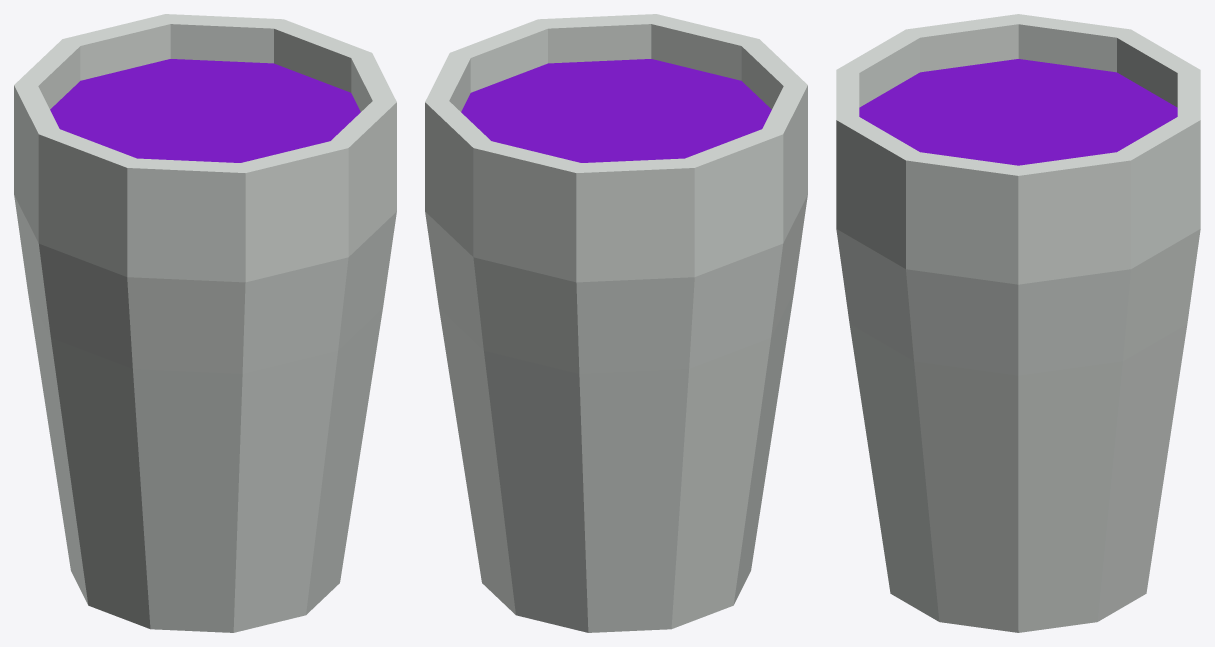
Rendered from grape_soda_cup.glb.
The picture shows the model from 3 angles, left to right: view 1: azimuth 30°, elevation 25°; view 2: azimuth 150°, elevation 25°; view 3: azimuth 270°, elevation 25°; orthographic projection.
Visible parts, largest first — view 1: Cup; view 2: Cup; view 3: Cup.
Boxes of the visible parts, x1,y1,x2,y2 form: Cup: [14, 14, 396, 632]; Cup: [425, 14, 807, 632]; Cup: [836, 14, 1200, 632].
Size of the model in its own units: 0.4744 by 0.6572 by 0.4511.
1 material, 1 textured.
